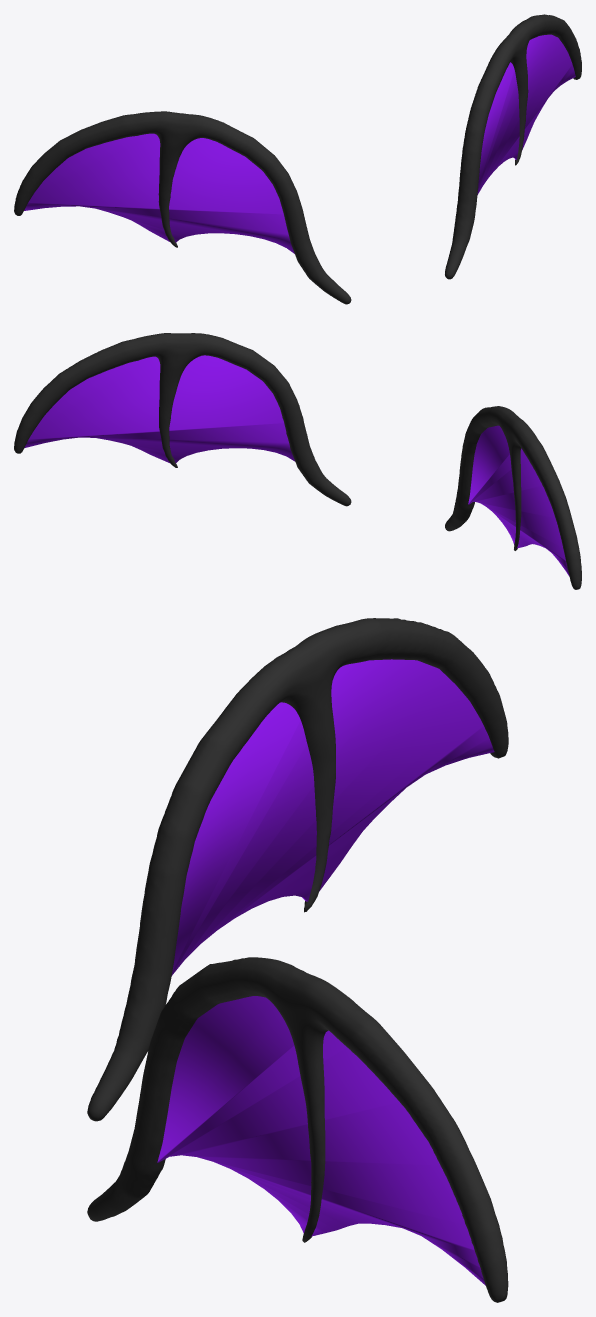
Rendered from wing.fbx.
3 views of the same model, one above another, from view 1: azimuth 30°, elevation 25°; view 2: azimuth 150°, elevation 25°; view 3: azimuth 270°, elevation 25° (orthographic). The views are drawn at different scales.
Parts seen in each view (by area): view 1: BezierCurve.033, BezierCurve.031; view 2: BezierCurve.031, BezierCurve.033; view 3: BezierCurve.033, BezierCurve.031.
Part boxes in pixels (box(x1,y1,x2,y2)): BezierCurve.033: box(14, 111, 351, 304); BezierCurve.031: box(445, 14, 581, 279); BezierCurve.031: box(14, 333, 351, 506); BezierCurve.033: box(445, 406, 581, 589); BezierCurve.033: box(87, 618, 508, 1121); BezierCurve.031: box(87, 957, 508, 1302).
Bounding box in the file's own units: 291 × 89.31 × 94.02.
